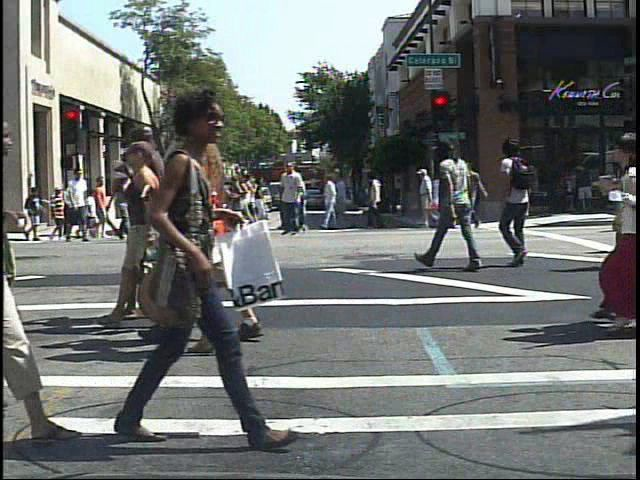person: (123, 77, 279, 455), (157, 95, 234, 348), (416, 129, 487, 271), (494, 133, 548, 276), (206, 122, 230, 353), (171, 154, 207, 248), (62, 164, 92, 246), (128, 160, 158, 241), (115, 162, 143, 243), (416, 165, 439, 227), (47, 184, 69, 242), (86, 182, 106, 223)
